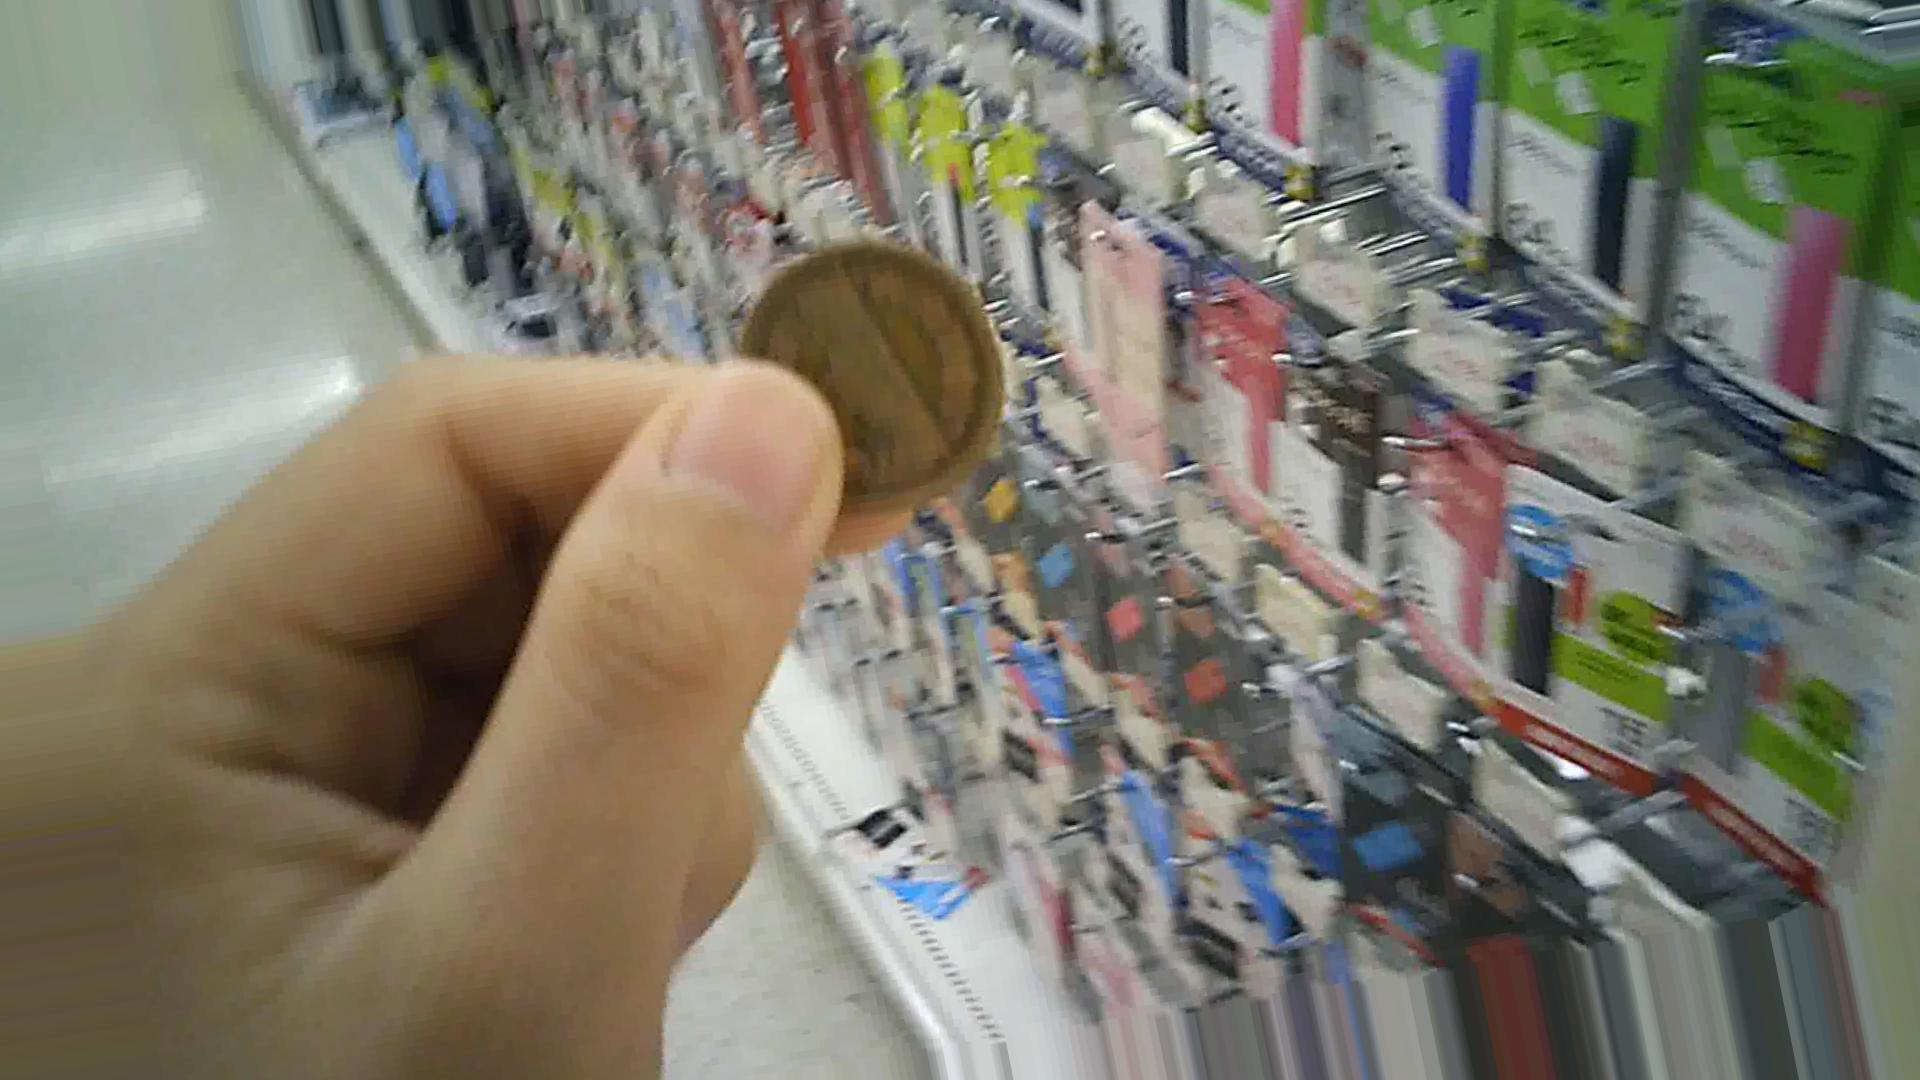10 Yen: (744, 227, 1007, 530)
